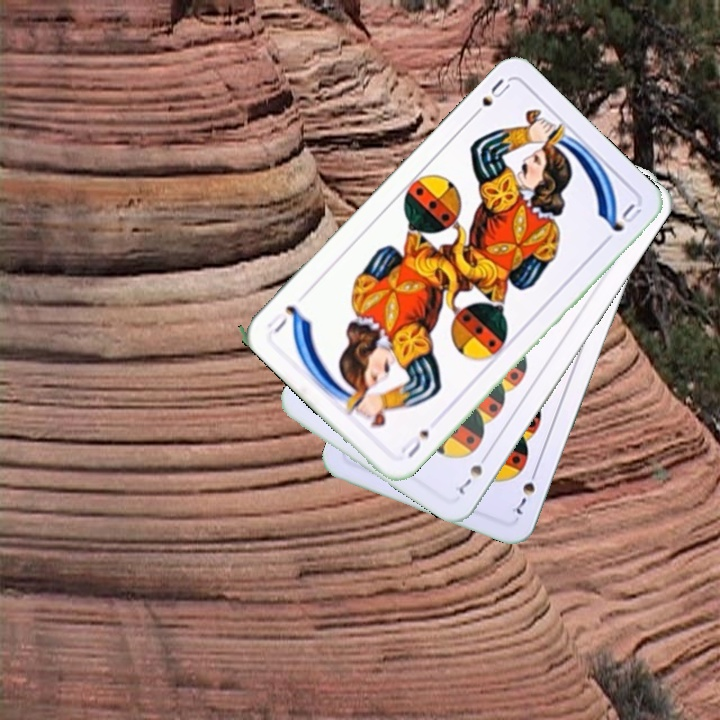S7: (451, 448, 492, 497), (508, 463, 541, 517)
SU: (466, 74, 513, 123), (397, 426, 432, 461)
